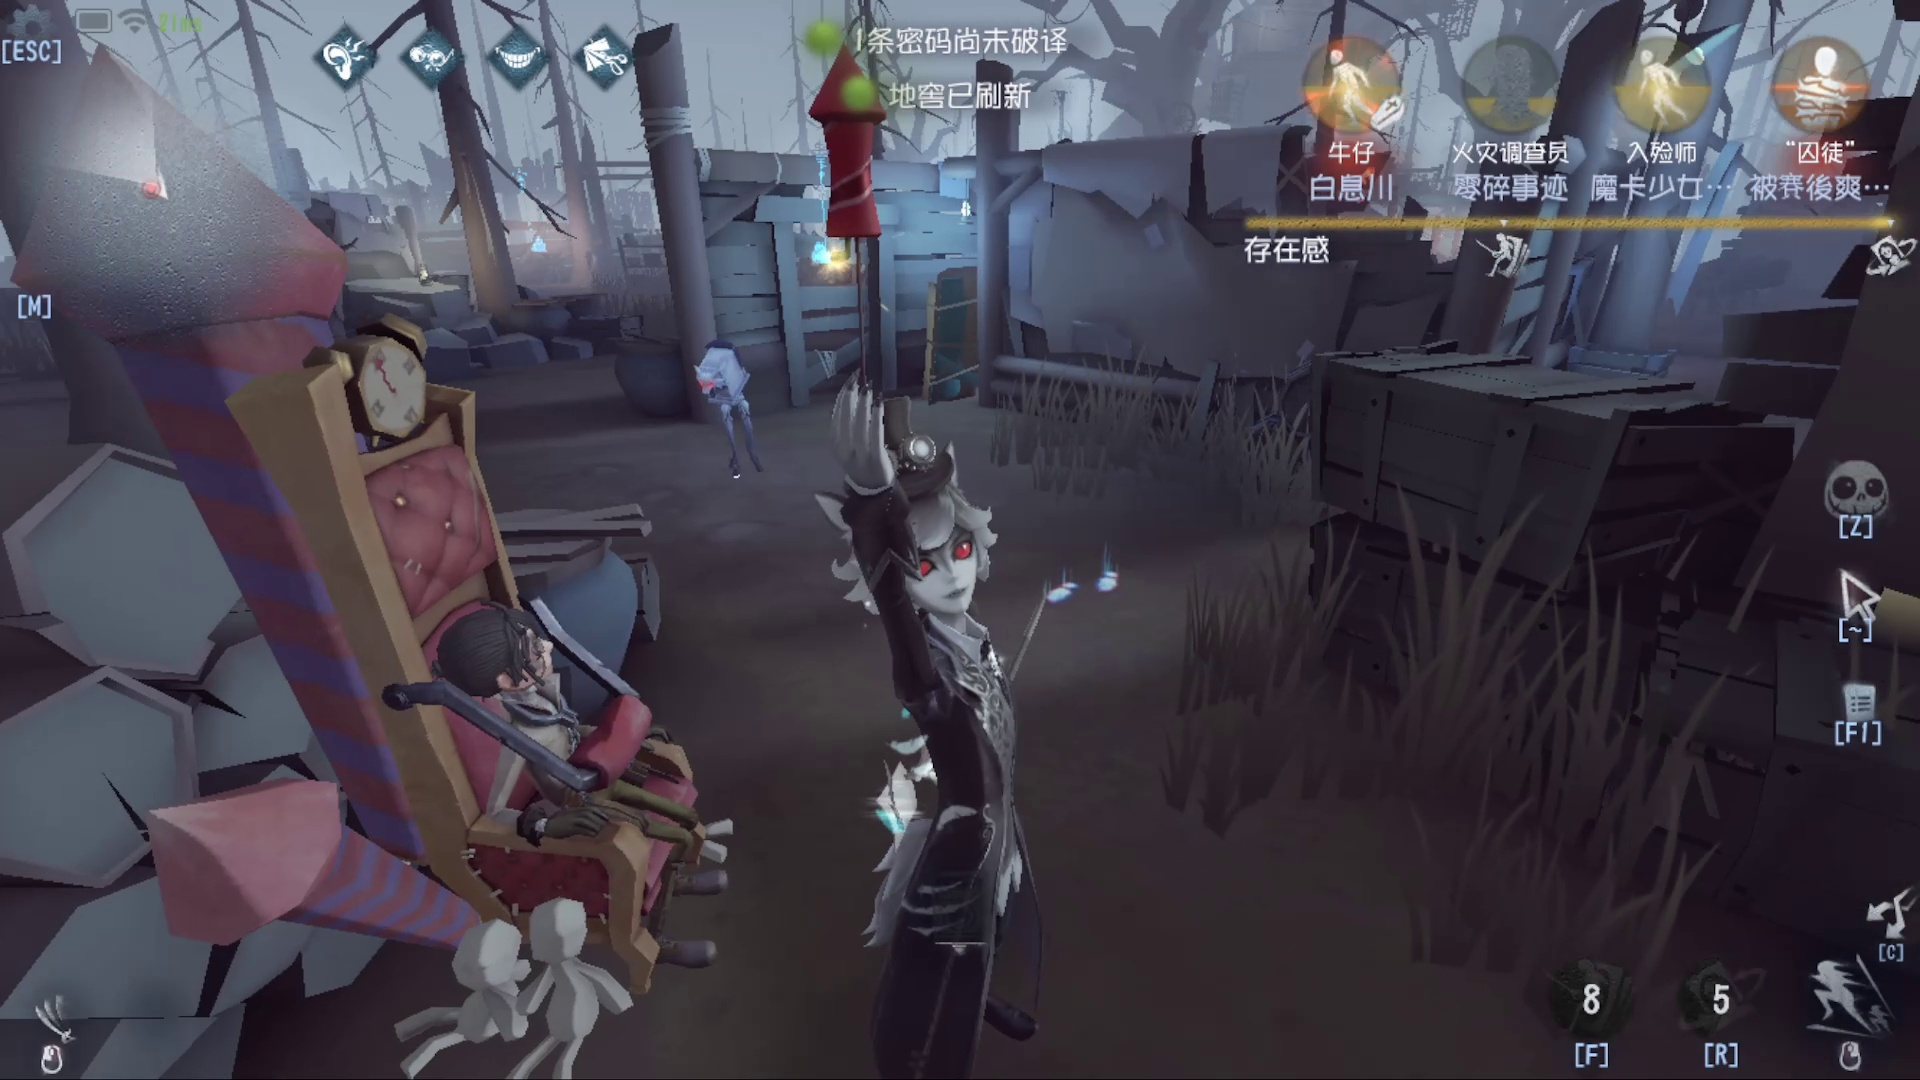密码机: (501, 152, 574, 266), (804, 131, 860, 276)
木板: (914, 265, 1002, 418)
求生者: (440, 601, 733, 907)
狂欢之椅: (42, 61, 794, 1005)
